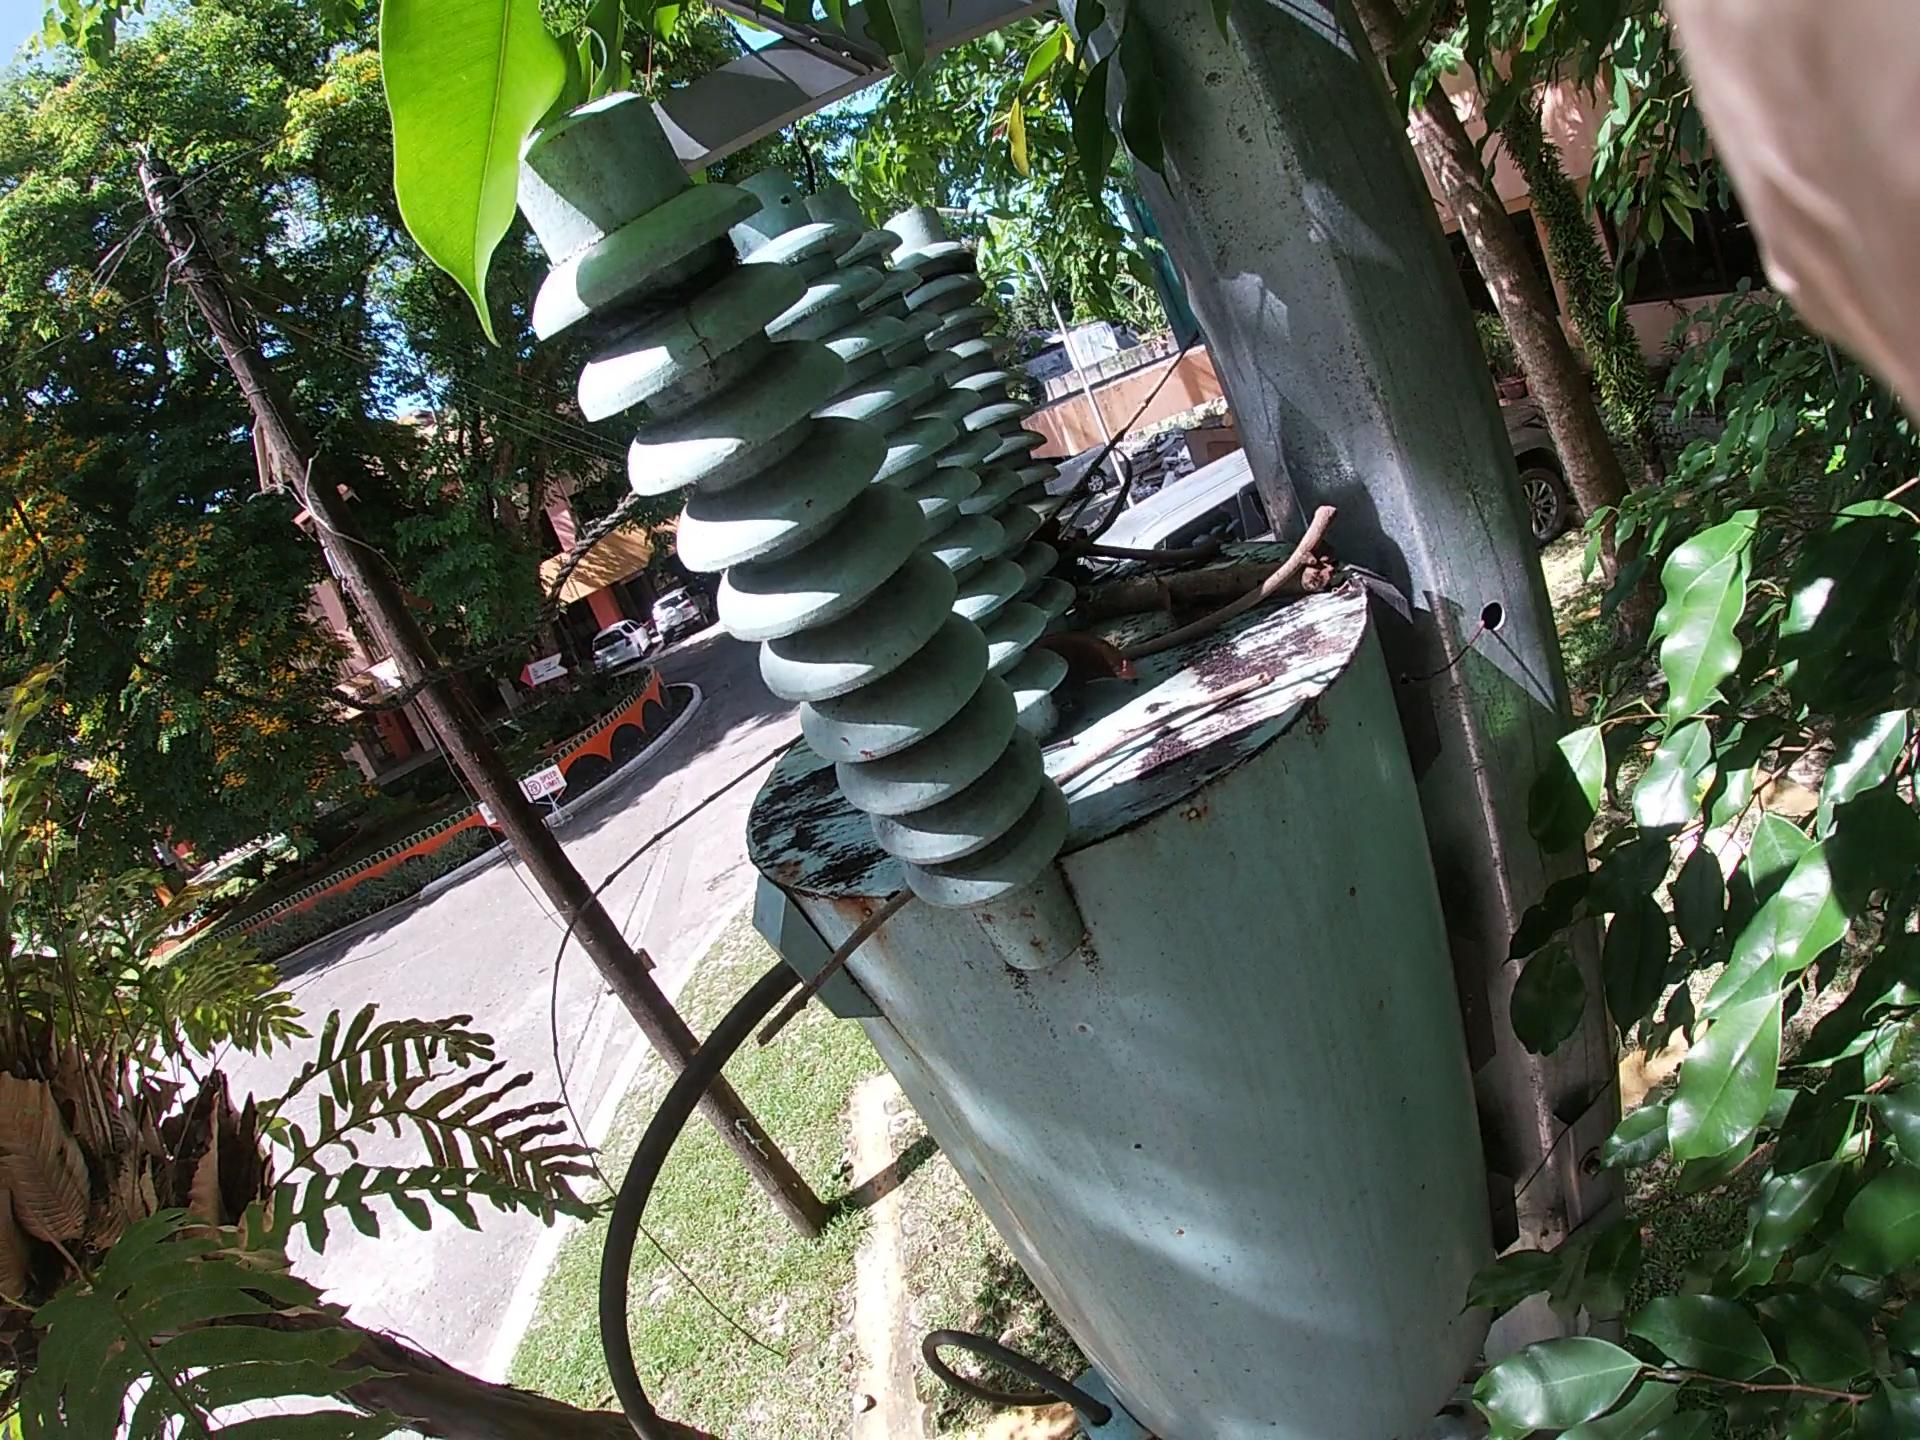leaf: (972, 566, 1268, 604)
tree branch: (490, 362, 1250, 1100), (735, 784, 1043, 1204), (1073, 484, 1465, 640), (1085, 549, 1312, 597)
